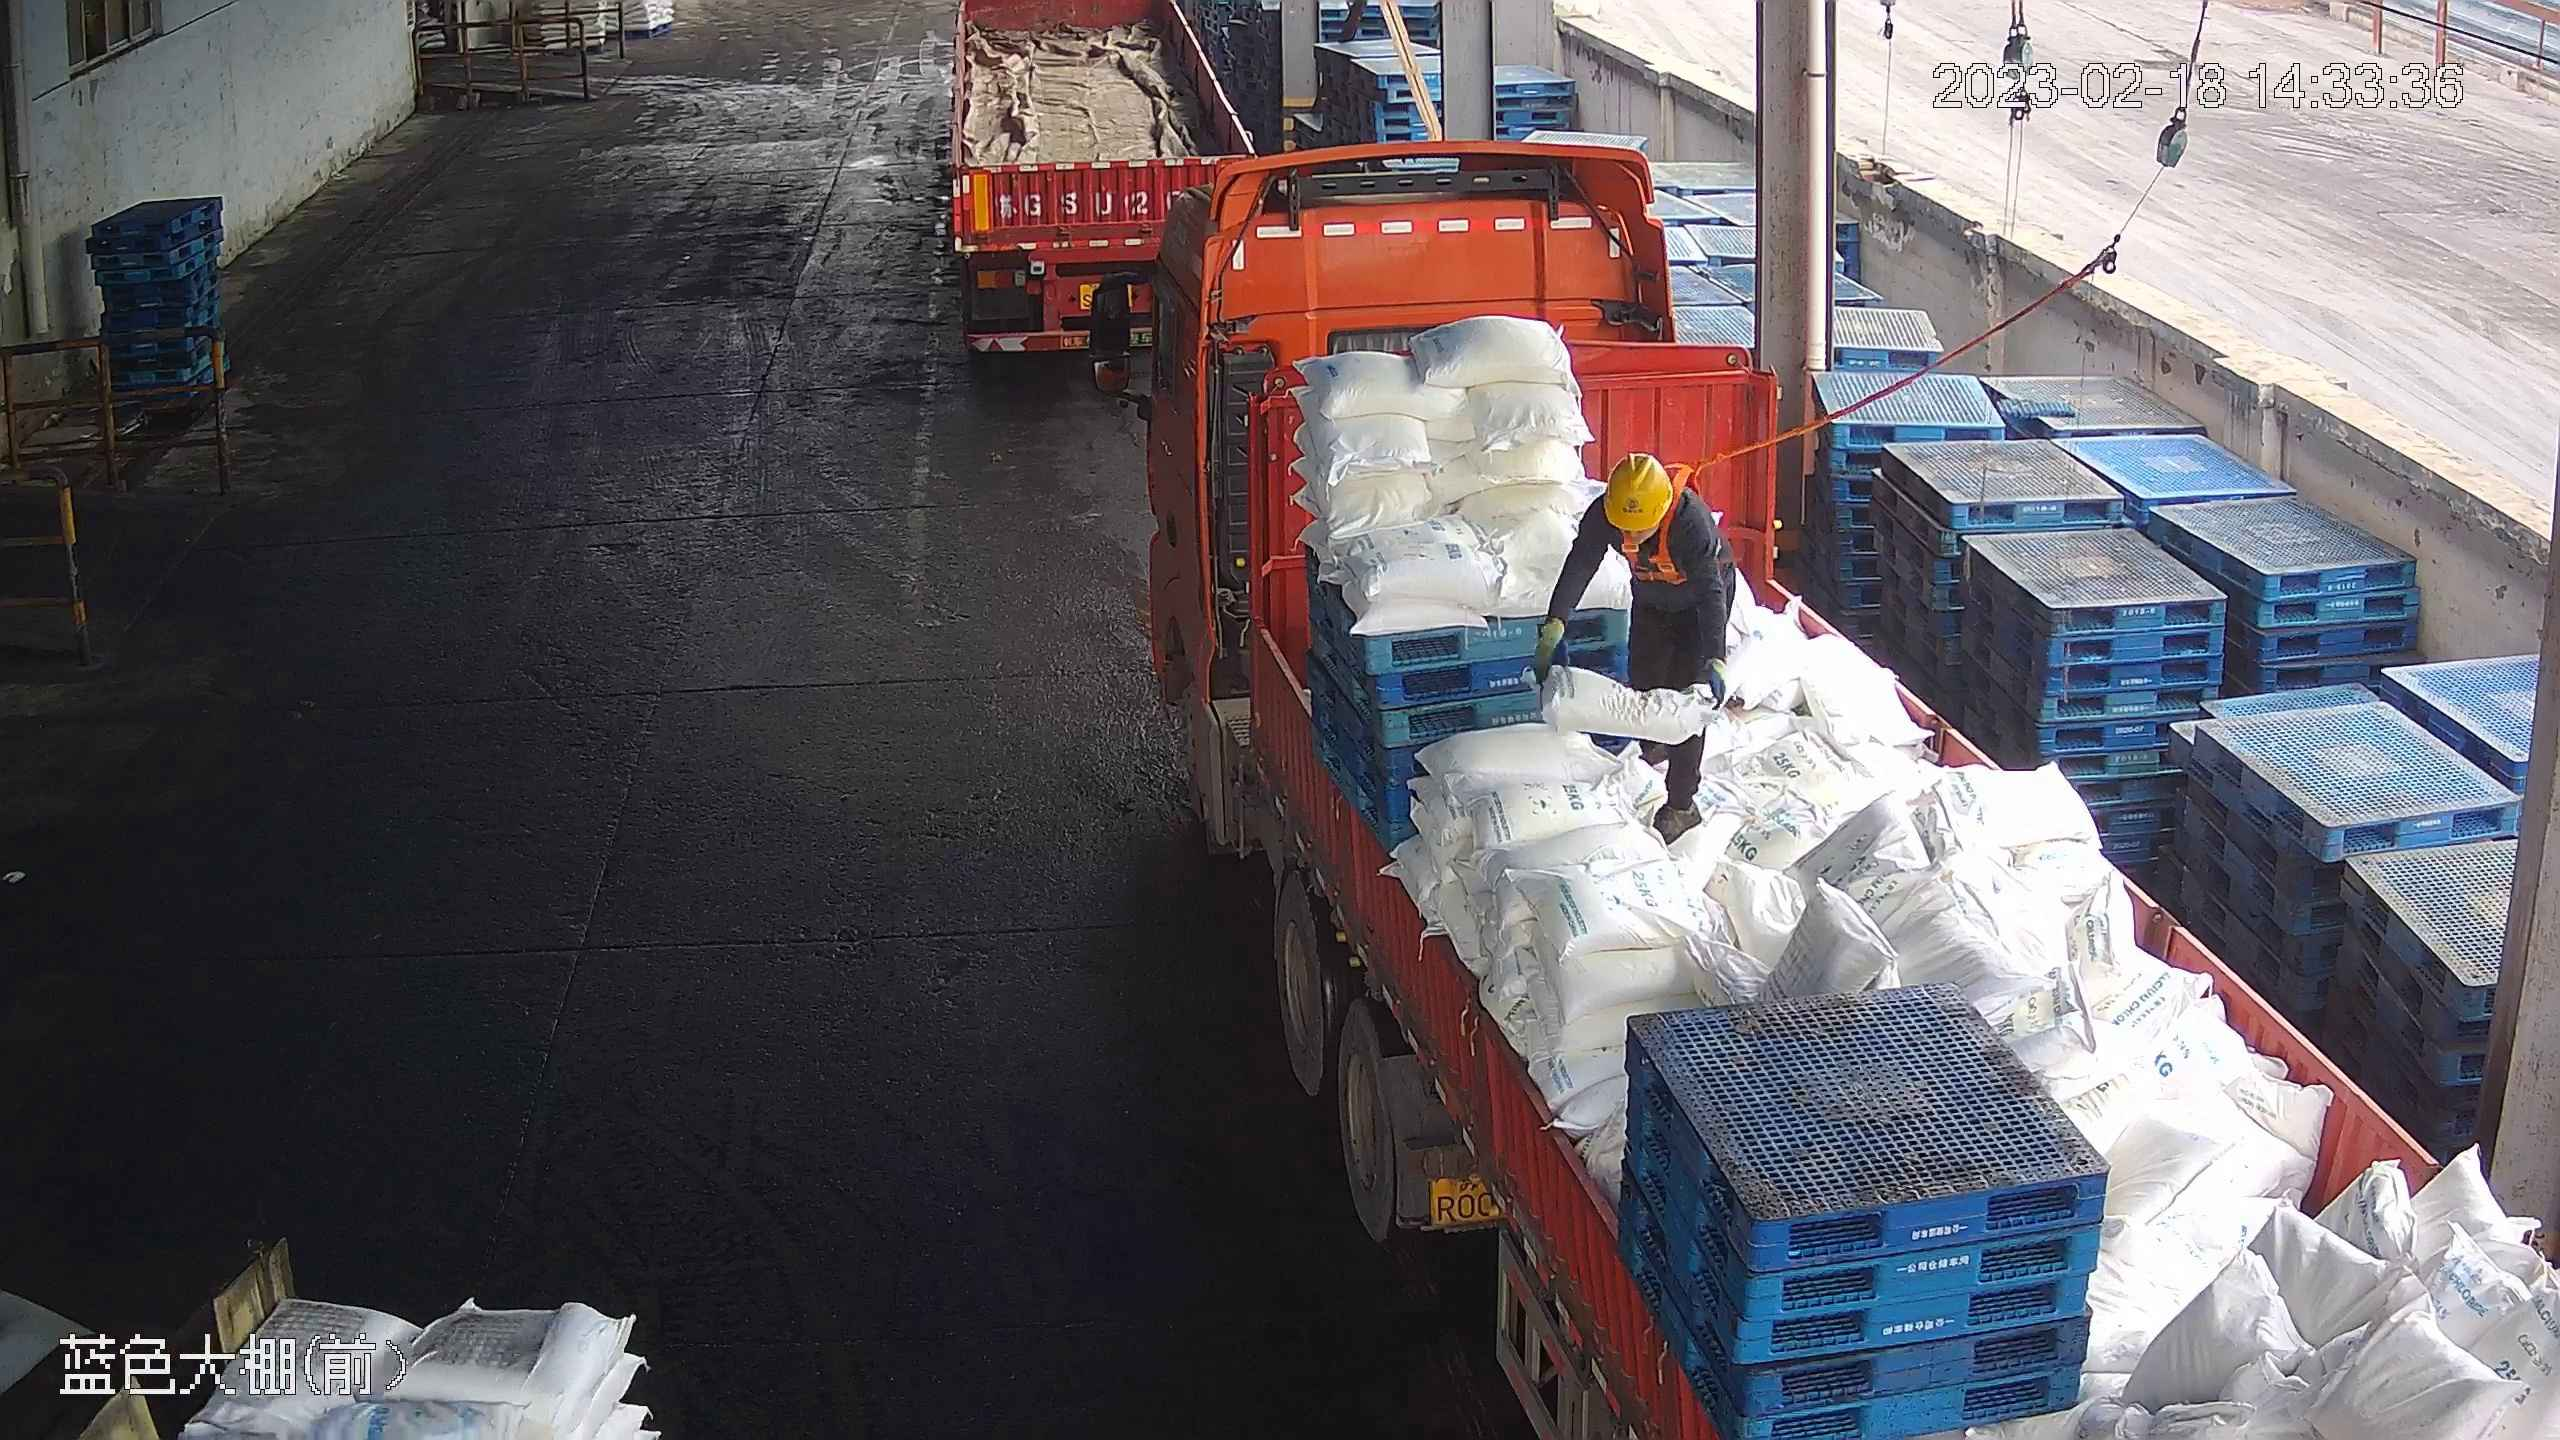belt: (1625, 454, 1705, 589), (1623, 459, 1705, 588)
head: (1576, 454, 1737, 586)
helmet: (1601, 450, 1673, 532)
truck: (1084, 133, 2560, 1440), (937, 1, 1262, 376), (1532, 454, 1735, 842)
